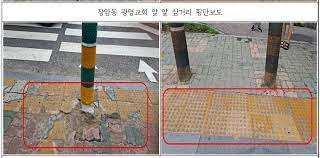guide_blocks: (164, 89, 315, 139)
